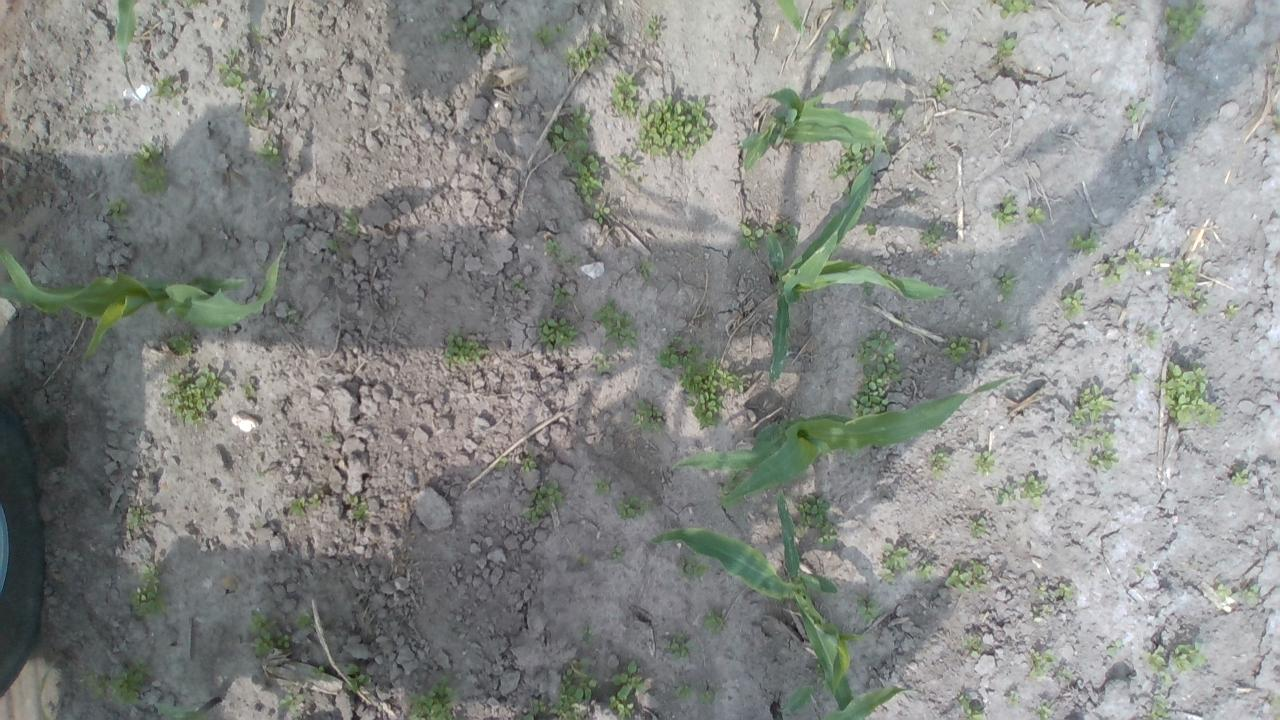Maize: (649, 484, 870, 720), (670, 369, 1020, 511), (765, 132, 950, 378), (0, 239, 292, 380), (741, 87, 894, 173), (111, 0, 177, 101), (770, 683, 920, 720), (756, 0, 808, 46), (145, 692, 219, 720)
Weeds: (543, 109, 604, 204), (633, 92, 713, 162), (846, 330, 902, 417), (1158, 359, 1224, 427), (678, 342, 726, 430), (162, 369, 225, 426), (550, 654, 598, 720), (452, 12, 510, 55), (593, 297, 640, 350), (1168, 257, 1210, 316), (108, 658, 158, 707), (404, 674, 457, 720), (127, 562, 169, 620), (796, 494, 839, 550), (129, 140, 171, 197), (606, 661, 645, 720), (1068, 428, 1120, 472), (248, 610, 292, 658), (560, 30, 610, 70), (442, 328, 491, 368), (520, 479, 562, 525), (1068, 384, 1114, 426), (1164, 0, 1206, 46), (826, 140, 873, 180), (822, 24, 868, 64), (535, 316, 579, 354), (944, 560, 990, 596), (216, 45, 247, 94), (879, 541, 910, 587), (610, 71, 639, 118), (1142, 644, 1174, 686), (240, 87, 270, 129), (1172, 641, 1208, 676), (769, 219, 800, 259), (630, 397, 665, 432), (154, 74, 188, 110), (1026, 647, 1060, 679), (543, 239, 579, 268), (1124, 246, 1164, 272), (1021, 473, 1048, 511), (1094, 256, 1126, 288), (341, 662, 373, 694), (616, 492, 650, 521), (956, 692, 991, 720), (992, 192, 1018, 229), (654, 335, 681, 370), (530, 22, 569, 46), (676, 555, 712, 581), (254, 138, 284, 168), (78, 668, 108, 698), (286, 492, 323, 516), (664, 631, 694, 660), (940, 336, 971, 364), (1066, 229, 1098, 256), (928, 447, 952, 482), (612, 150, 642, 178), (716, 468, 742, 500), (737, 221, 765, 250), (921, 220, 948, 250), (1062, 288, 1086, 321), (996, 268, 1020, 301), (990, 0, 1034, 18), (122, 506, 156, 529), (1142, 694, 1172, 720), (855, 594, 881, 622), (168, 330, 194, 358), (971, 448, 996, 477), (702, 608, 726, 638), (105, 195, 130, 222), (278, 692, 308, 714), (928, 75, 954, 100), (345, 494, 370, 520), (1232, 582, 1259, 606), (960, 632, 983, 659), (809, 660, 830, 688), (993, 482, 1016, 507), (1030, 602, 1056, 624), (1126, 98, 1148, 123), (592, 350, 614, 375), (722, 372, 748, 393), (1138, 325, 1160, 349), (642, 16, 664, 40), (550, 284, 574, 306), (342, 208, 361, 235), (995, 38, 1018, 60), (590, 475, 612, 496), (1228, 466, 1250, 487), (1106, 9, 1128, 30), (970, 513, 989, 537), (590, 202, 610, 224), (283, 304, 303, 326), (914, 560, 934, 581), (1052, 582, 1074, 601), (1105, 638, 1125, 658), (1002, 690, 1022, 710), (673, 681, 692, 702), (1035, 699, 1054, 720), (292, 610, 314, 628), (638, 258, 656, 280), (1026, 204, 1045, 224), (520, 456, 538, 476), (1215, 581, 1232, 602), (612, 546, 630, 564), (310, 664, 330, 680), (698, 687, 716, 704), (240, 382, 258, 399), (887, 101, 903, 120), (580, 625, 595, 645), (250, 23, 264, 44), (1224, 302, 1240, 319), (934, 28, 949, 46), (532, 696, 546, 715), (1270, 694, 1280, 720), (1032, 584, 1050, 598), (862, 280, 876, 298), (864, 219, 878, 236), (508, 279, 526, 292), (994, 318, 1010, 332), (326, 237, 340, 253), (1135, 562, 1148, 577), (840, 0, 856, 12), (494, 456, 510, 468), (842, 185, 854, 200), (438, 29, 453, 41), (1130, 371, 1142, 384), (322, 431, 335, 443), (1057, 666, 1067, 680), (1153, 196, 1165, 207), (575, 554, 587, 564), (186, 0, 202, 7), (105, 104, 115, 115), (926, 160, 936, 171), (254, 472, 266, 481), (253, 520, 263, 530), (521, 714, 535, 720), (910, 192, 916, 204), (1274, 114, 1280, 124)
